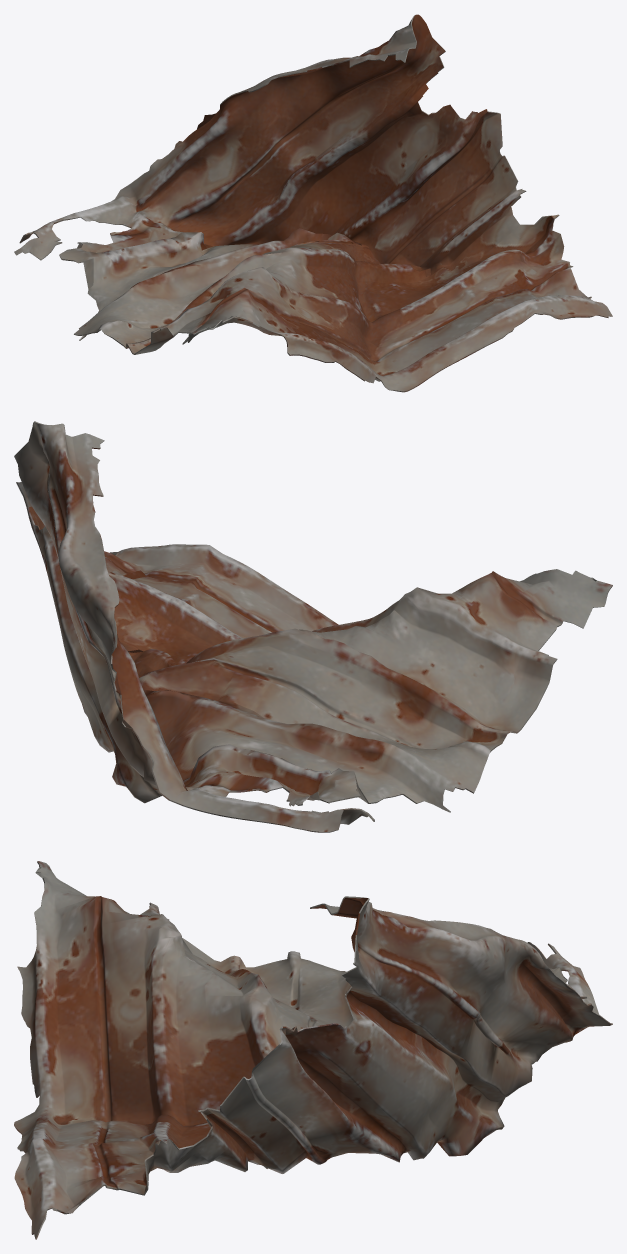
File: MOD_DebrisCorrugated_B.fbx
3 views of the same model, one above another, from view 1: azimuth 30°, elevation 25°; view 2: azimuth 150°, elevation 25°; view 3: azimuth 270°, elevation 25° (orthographic). The views are drawn at different scales.
Visible parts, largest first — view 1: MOD_DebrisCorrugated_B; view 2: MOD_DebrisCorrugated_B; view 3: MOD_DebrisCorrugated_B.
Part boxes in pixels (x1=…): MOD_DebrisCorrugated_B: x1=14, y1=14, x2=612, y2=392; MOD_DebrisCorrugated_B: x1=14, y1=421, x2=612, y2=832; MOD_DebrisCorrugated_B: x1=14, y1=861, x2=612, y2=1239.
Size of the model in its own units: 119 by 66.57 by 111.
